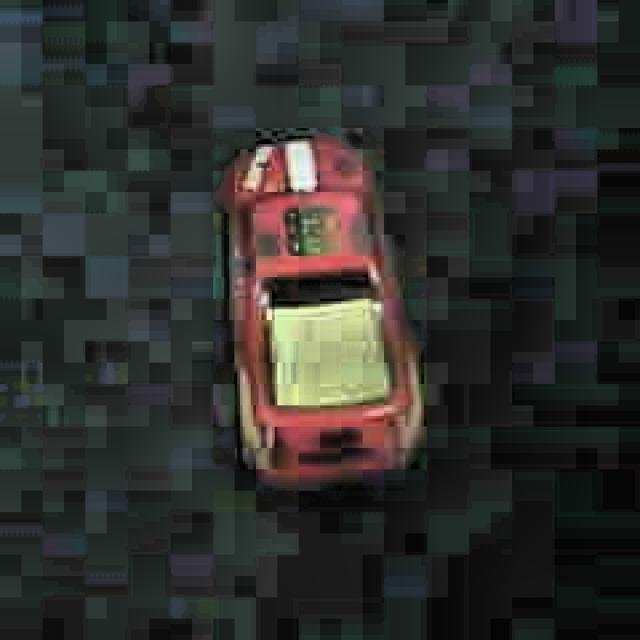car: (215, 129, 428, 492)
